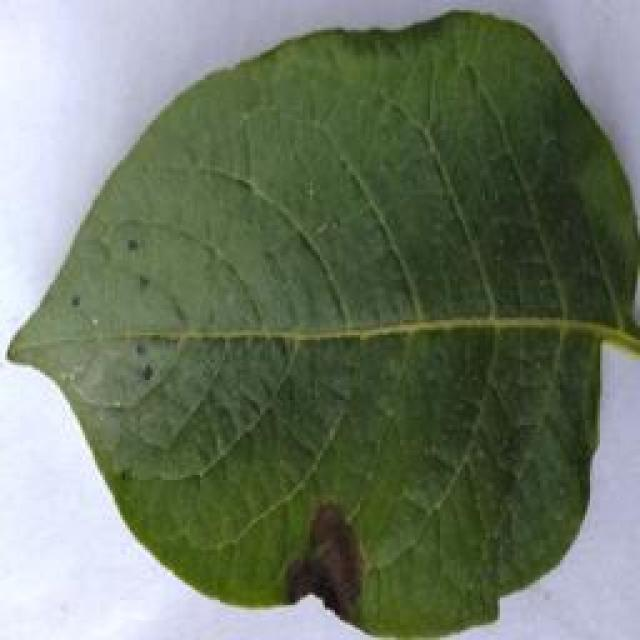Potato_Late_Blight: (1, 10, 630, 636)
